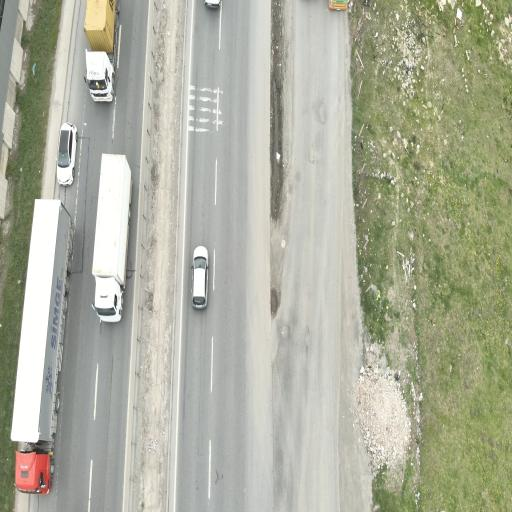car: (57, 123, 78, 185), (192, 247, 208, 308), (205, 0, 221, 7)
truck: (11, 200, 73, 494), (92, 154, 131, 322), (84, 0, 119, 101), (329, 0, 348, 9)
